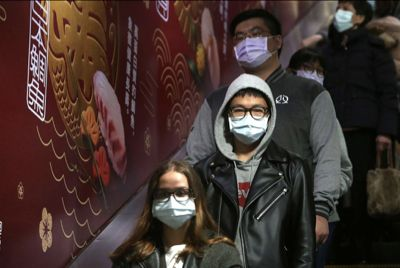with-mask: (143, 164, 202, 234), (223, 85, 272, 150), (232, 17, 283, 75), (296, 50, 327, 91), (332, 1, 368, 32)
